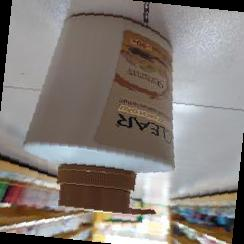clear: (21, 13, 186, 222)
